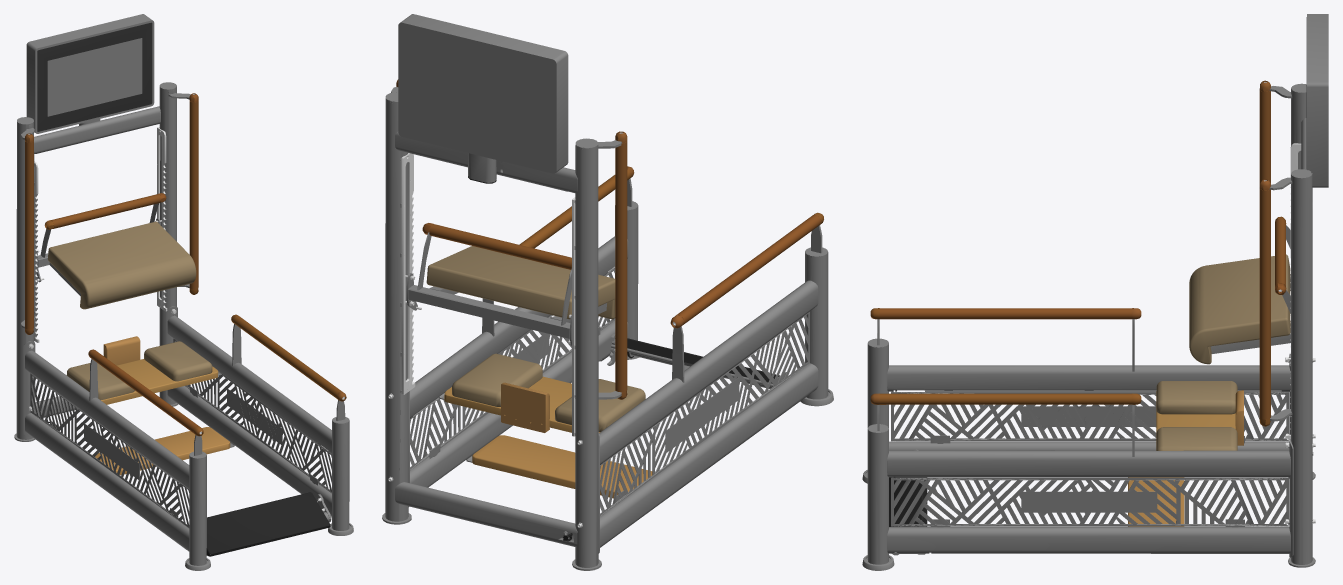
File: stretchmachine.glb
3 views of the same model, side by side, from view 1: azimuth 30°, elevation 25°; view 2: azimuth 150°, elevation 25°; view 3: azimuth 270°, elevation 25° (orthographic). The views are drawn at different scales.
Visible parts, largest first — view 1: stretchmachine; view 2: stretchmachine; view 3: stretchmachine.
Boxes of the visible parts, left/top/right/bottom form: stretchmachine: left=14, top=14, right=353, bottom=570; stretchmachine: left=382, top=14, right=833, bottom=570; stretchmachine: left=862, top=14, right=1328, bottom=570.
Size of the model in its own units: 0.8706 by 1.86 by 1.66.
